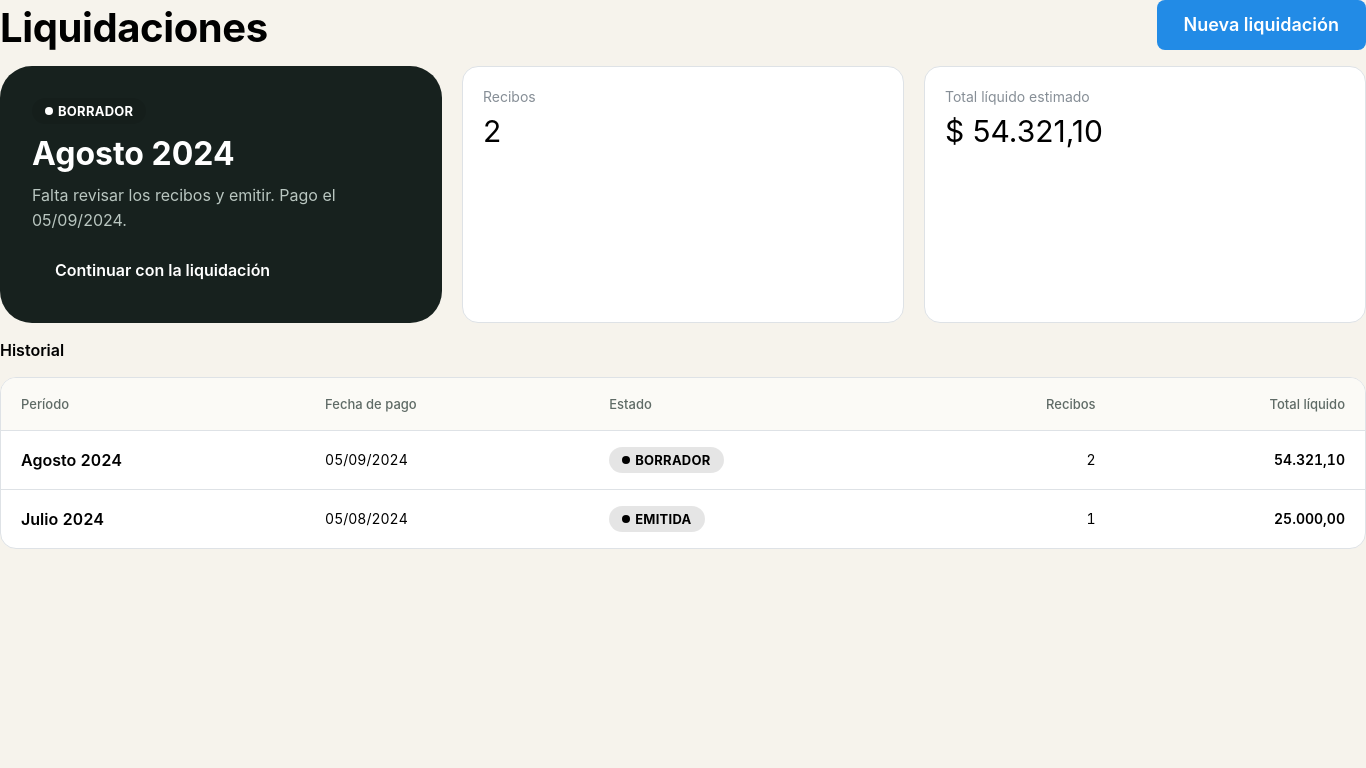
Test: LiquidacionesPage › shows the blocked-creation message when no parameters apply
Click the button "Nueva liquidación" at (1261, 25), box [1157,0,1365,50]
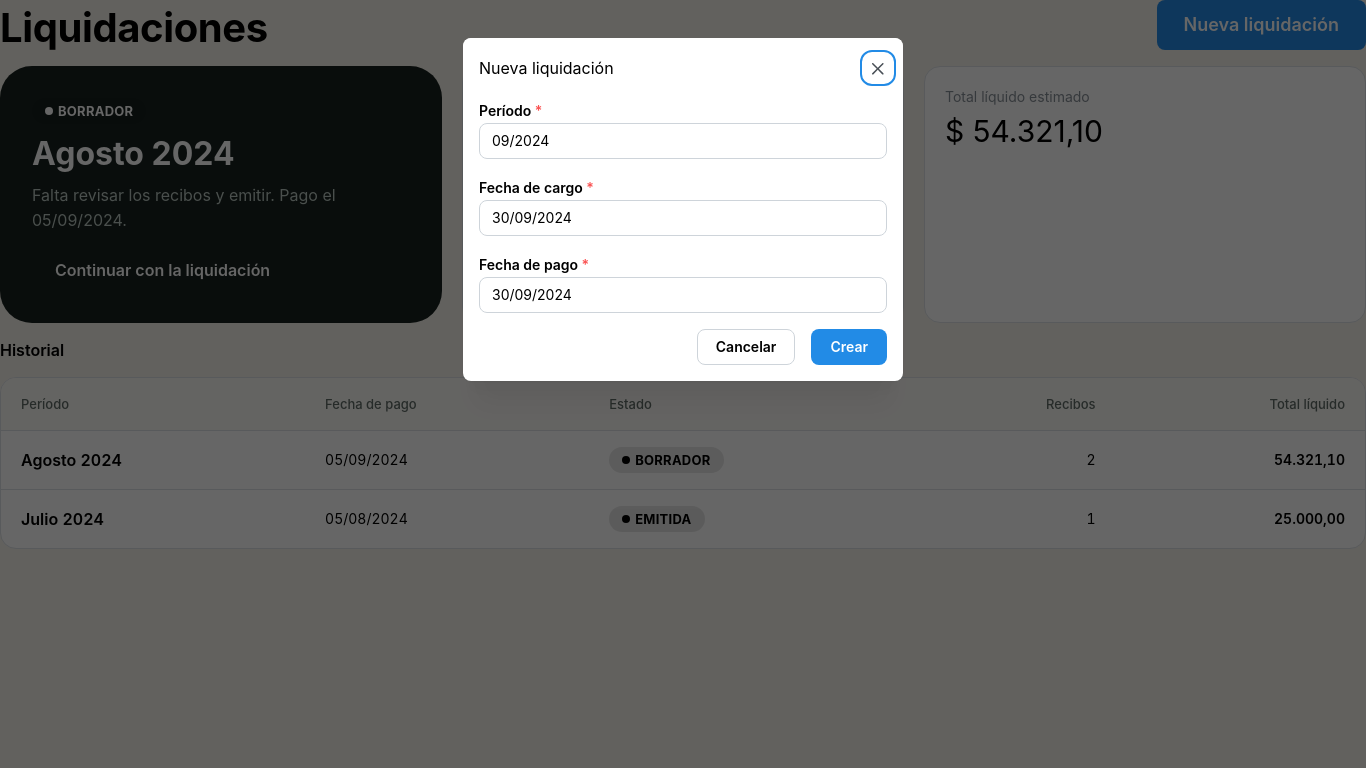
Click the button "Crear" at (849, 347), box [811,329,887,365]
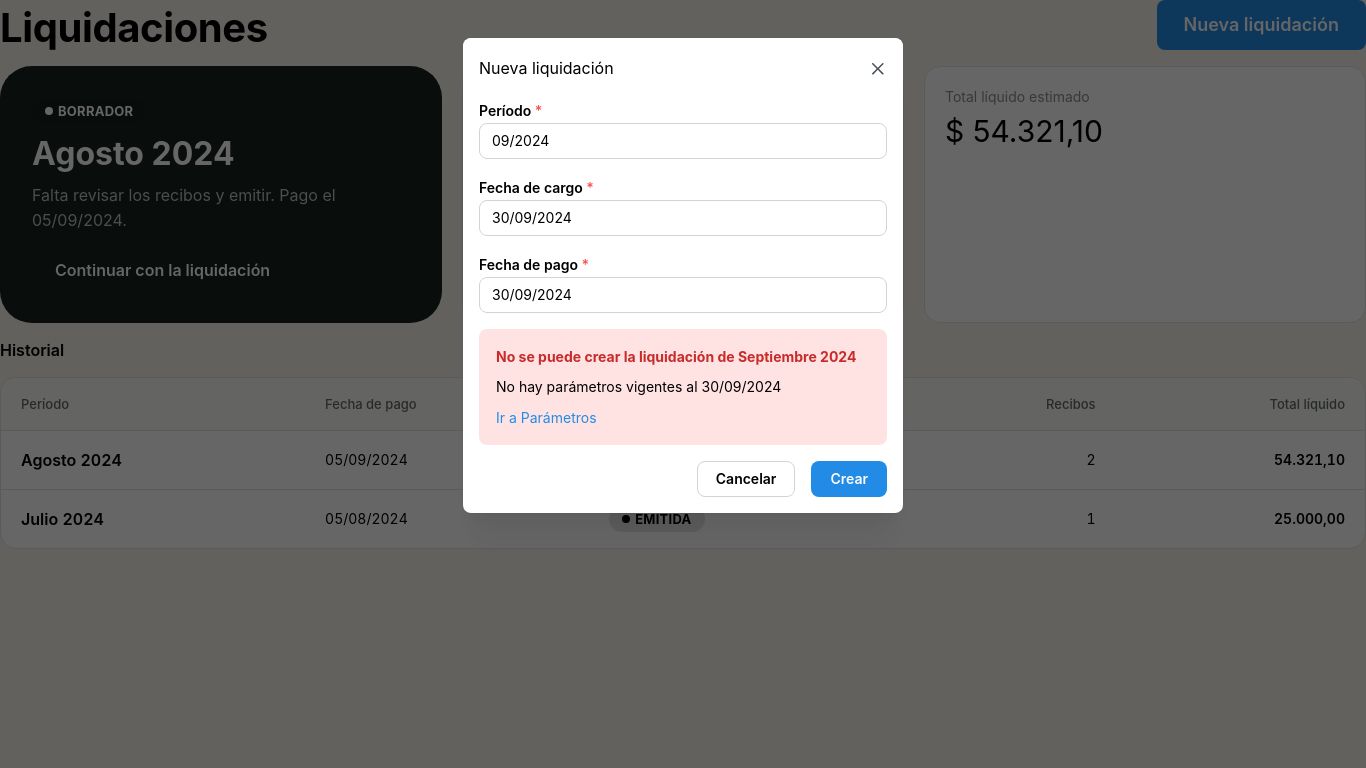
expect the message shows "No hay parámetros vigentes al 30/09/2024": met, box [496,378,781,396]
